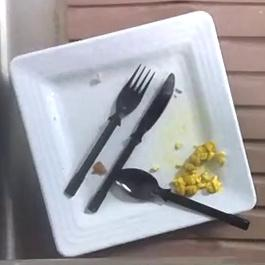corn: (171, 141, 226, 196)
